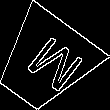M_SW: (10, 28, 80, 96)
